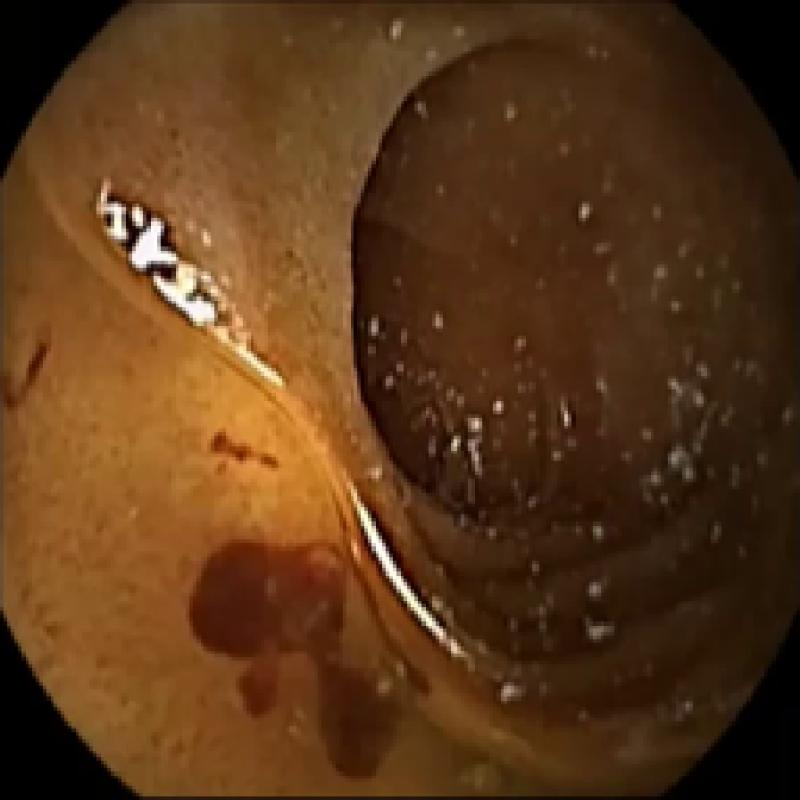bleeding: (193, 536, 432, 786), (89, 190, 246, 340), (0, 328, 50, 410), (205, 425, 283, 473)
